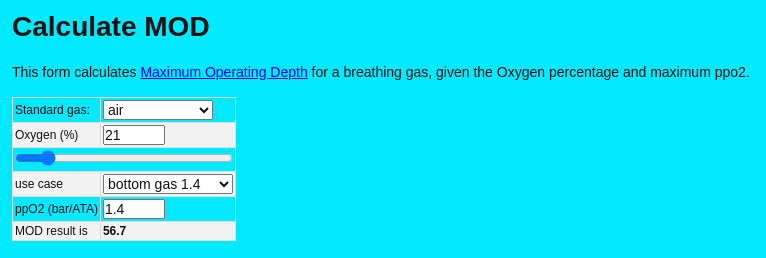
Test: ModView › applies standard gas and use-case dropdowns
Select "Oxygen 100%" in the dropdown named "Standard gas" at (158, 110), box [103,100,213,120]
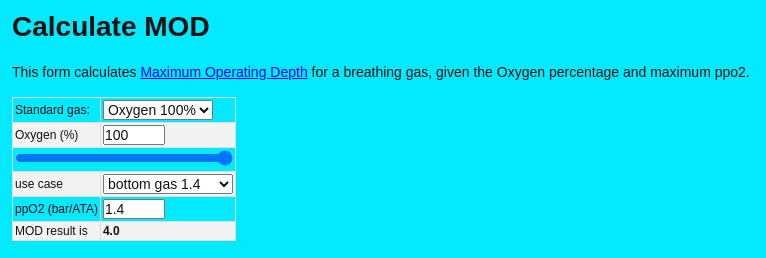
Select "deco gas 1.6" in the dropdown named "ppO2 use case" at (168, 184), box [103,174,233,194]
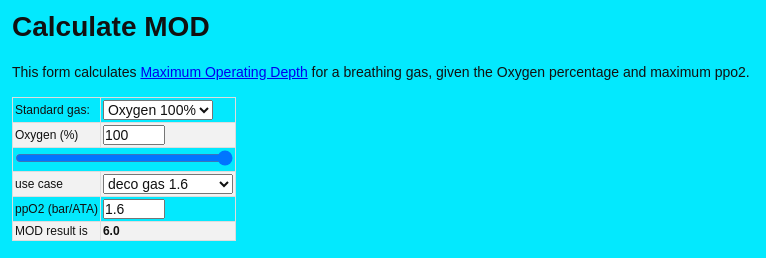
Expected: the text "6.0" is shown, [103,224,120,238]
